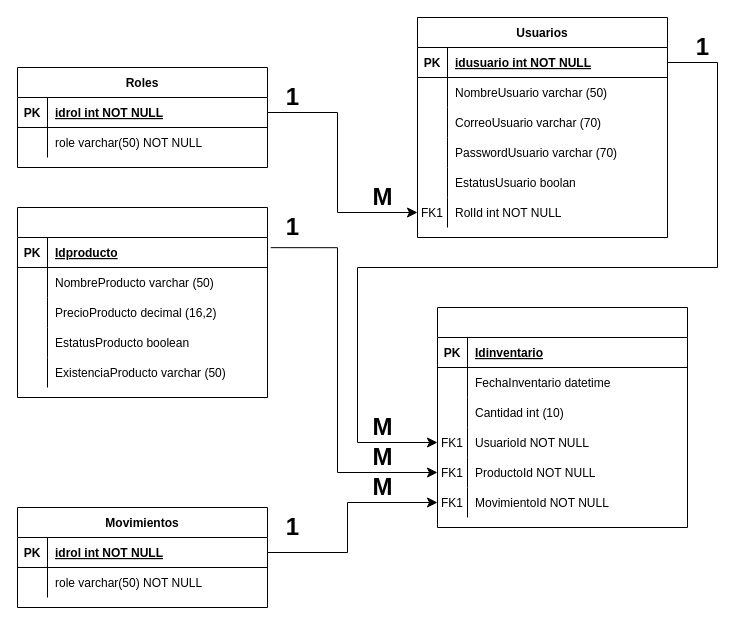
Image size: 745x625. Some labels were removed from this diagram. Each missing label, with the box of its shape:
Inventarios: (436, 306, 688, 528)
Productos: (16, 206, 268, 398)
